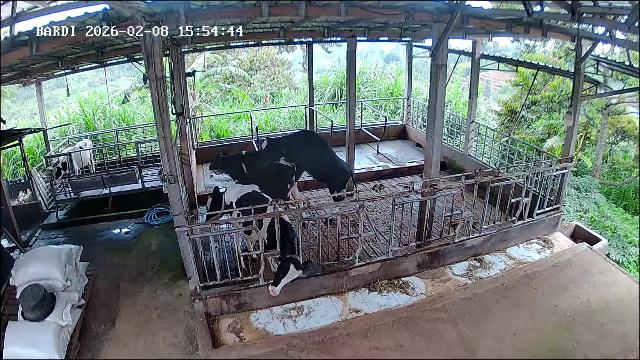mounting: (261, 125, 356, 226)
